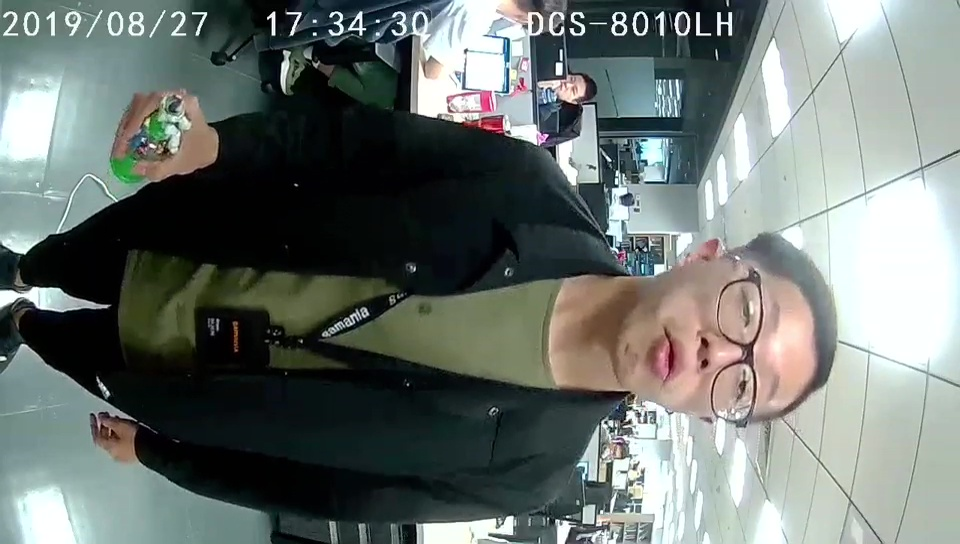buzz: (111, 91, 191, 186)
